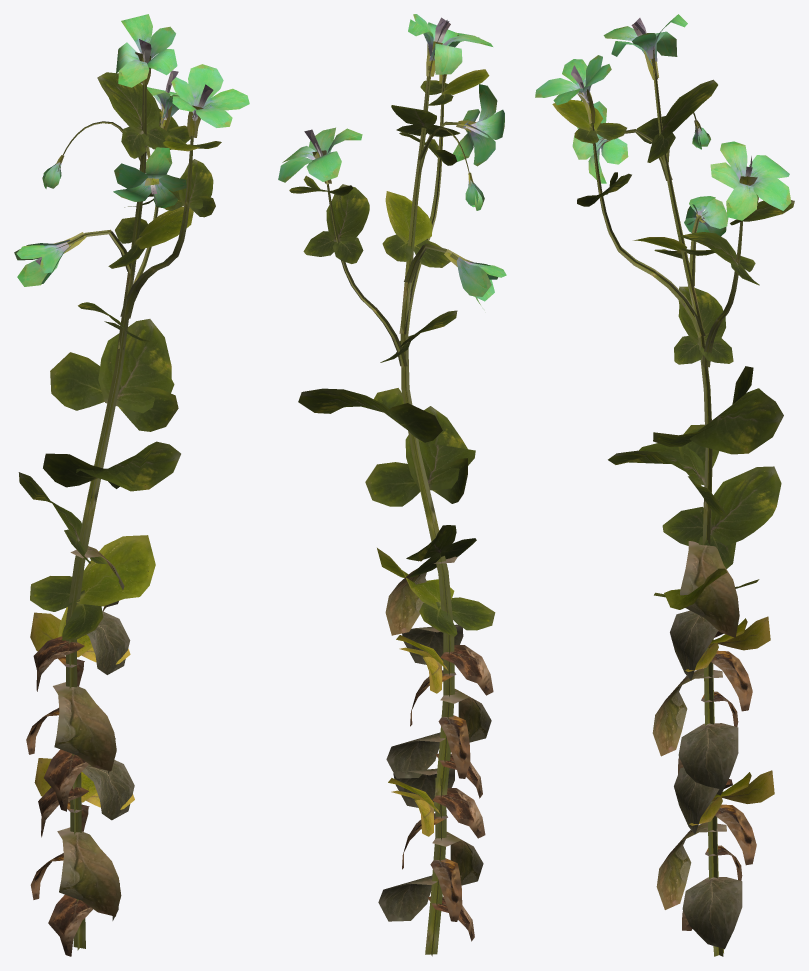
File: Periwinkle_bush_short_greenyellow.glb
3 renders of one model, left to right at view 1: azimuth 30°, elevation 25°; view 2: azimuth 150°, elevation 25°; view 3: azimuth 270°, elevation 25°, orthographic. The views are drawn at different scales.
Visible parts, largest first — view 1: _419c_Var3_LOD1.2; view 2: _419c_Var3_LOD1.2; view 3: _419c_Var3_LOD1.2.
Part boxes in pixels (<box>): _419c_Var3_LOD1.2: <box>14,14,249,956</box>; _419c_Var3_LOD1.2: <box>278,14,506,956</box>; _419c_Var3_LOD1.2: <box>535,14,794,956</box>.
Size of the model in its own units: 0.6129 by 2.59 by 0.6394.
Materials: 1 (1 with a texture image).
